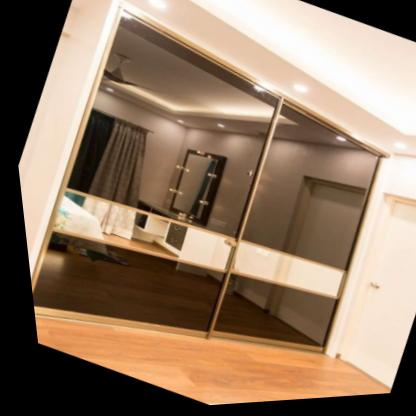Closet: (26, 15, 383, 351)
Wooden floor: (28, 317, 381, 407)
